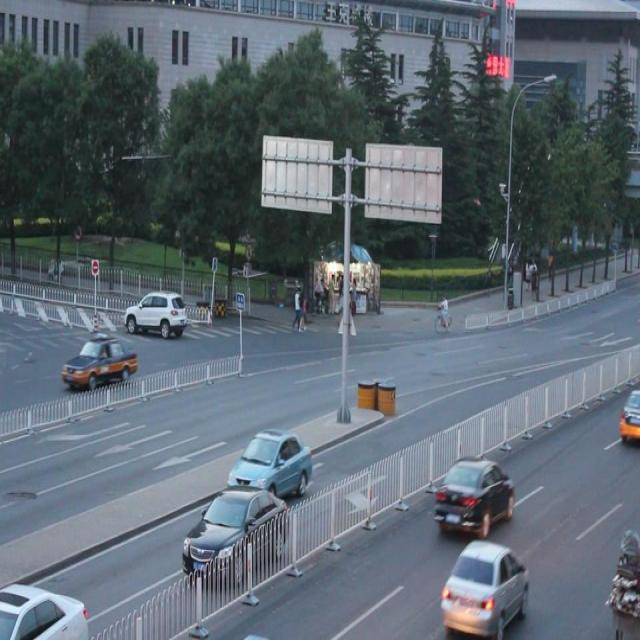car: (182, 481, 289, 584), (440, 539, 531, 640), (228, 428, 312, 499), (433, 460, 514, 532), (1, 576, 88, 640), (61, 334, 138, 391), (124, 289, 188, 339), (615, 384, 640, 448)
